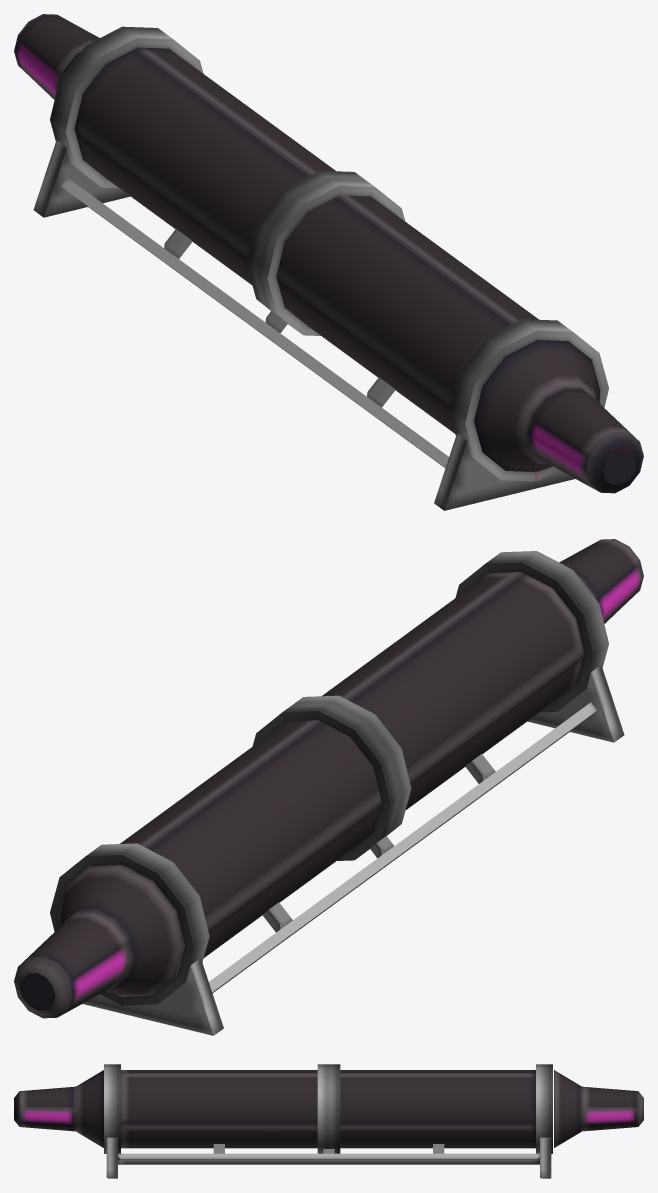
File: nuke_prototype.obj
3 views of the same model, one above another, from view 1: azimuth 30°, elevation 25°; view 2: azimuth 150°, elevation 25°; view 3: azimuth 270°, elevation 25° (orthographic). The views are drawn at different scales.
Visible parts, largest first — view 1: Cylinder.001; view 2: Cylinder.001; view 3: Cylinder.001.
Part boxes in pixels (x1,y1,x2,y2): Cylinder.001: (14,14,643,510); Cylinder.001: (14,539,643,1035); Cylinder.001: (14,1064,643,1178).
Size of the model in its own units: 1.25 by 1.06 by 7.
